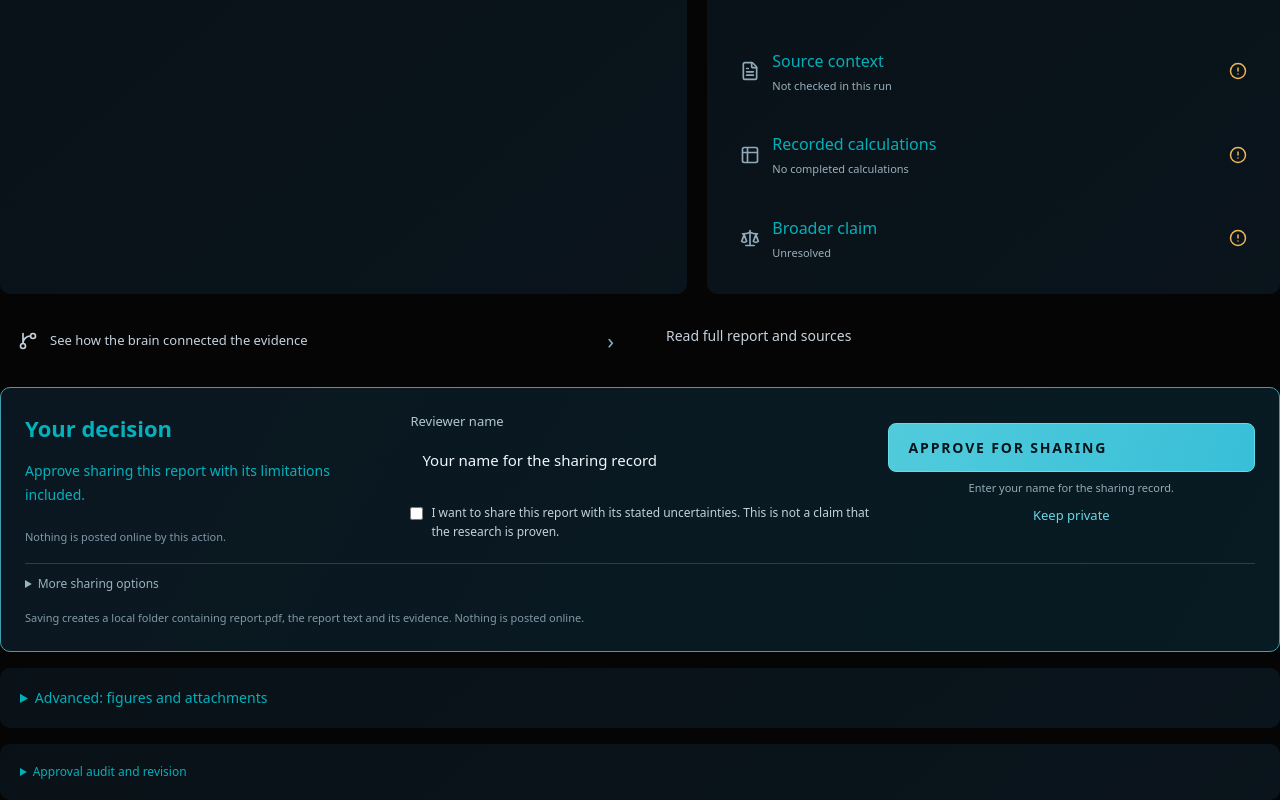
Test: ResearchPublicationConsole › keeps a draft private without submitting approval
The width and height of the screenshot is (1280, 800).
(page scrolled)
Click the button "Keep private".
click(1071, 515)  # box x1=1033 y1=496 x2=1110 y2=534
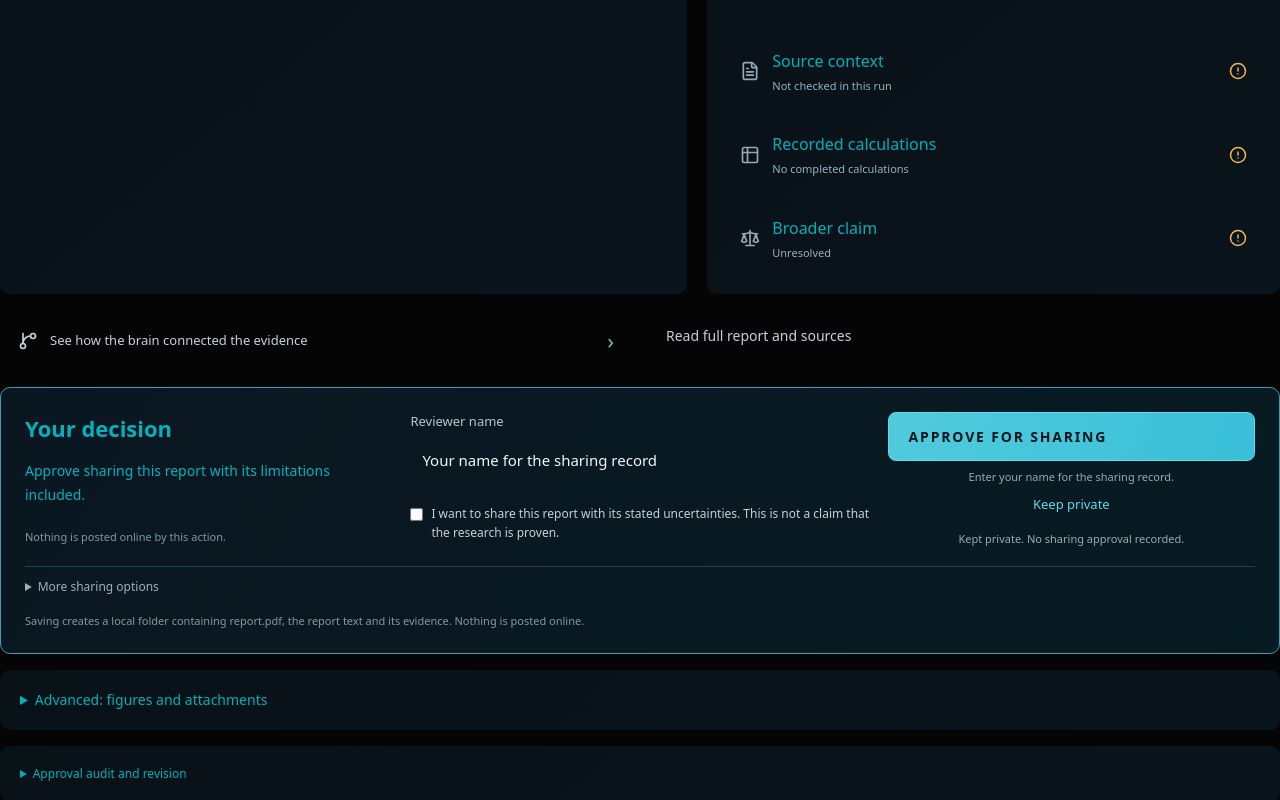
Expected: the message shows "No sharing approval recorded", x1=958 y1=531 x2=1184 y2=546
